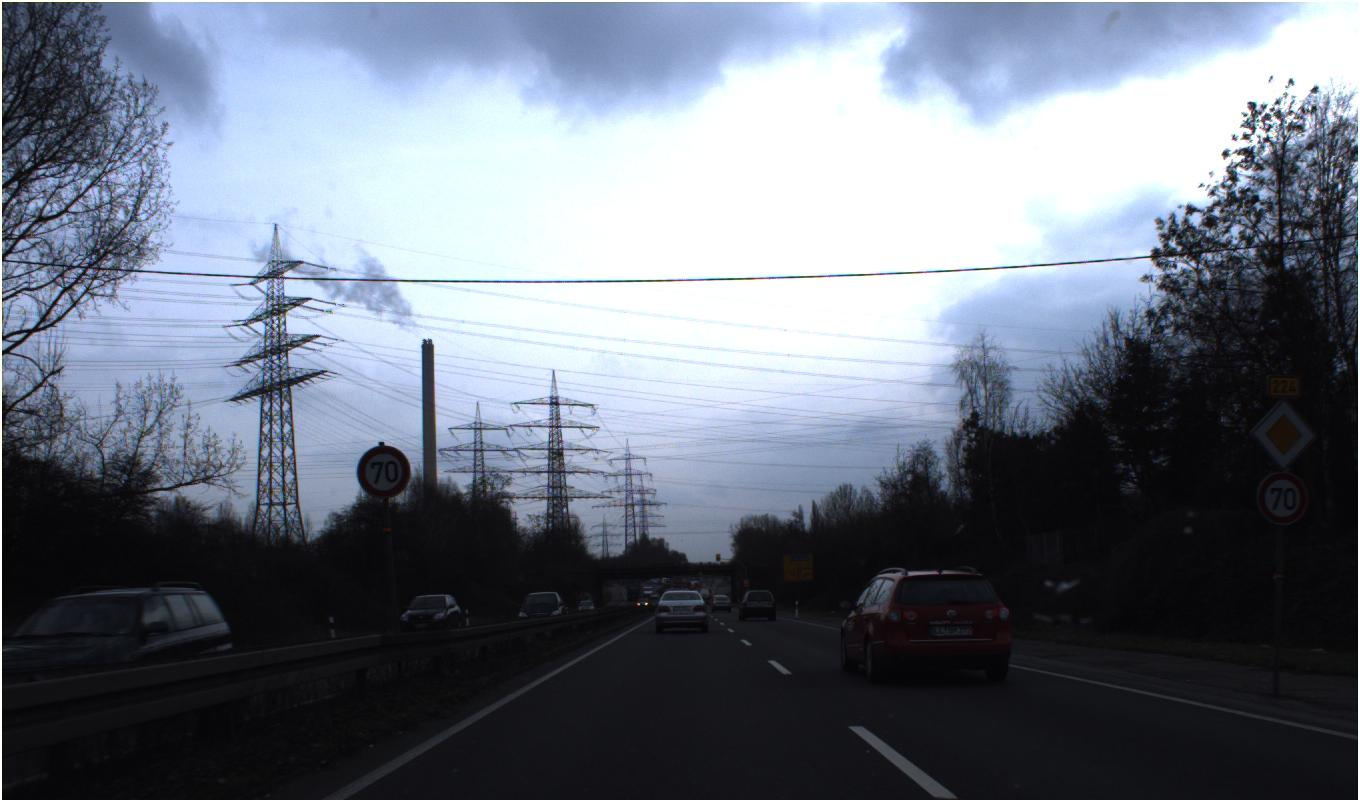prohibitory: (355, 444, 411, 499), (1255, 470, 1309, 525)
sign: (1249, 397, 1317, 470)
